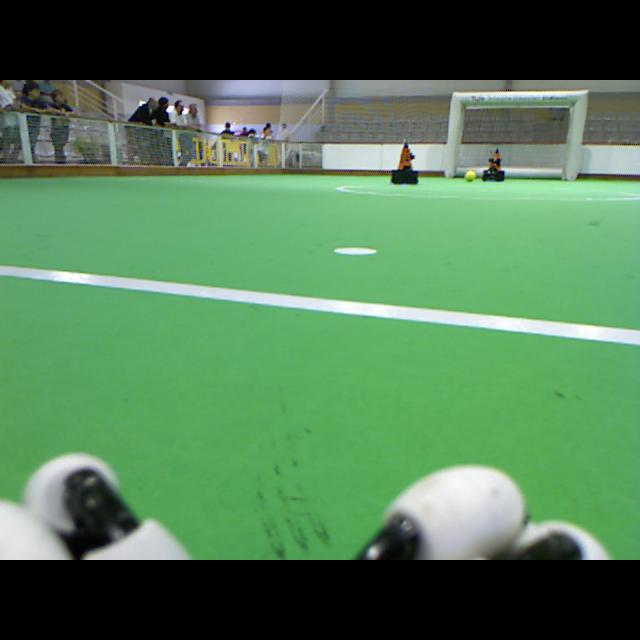ball: (467, 172, 475, 183)
robot: (391, 139, 417, 185), (482, 149, 504, 181)
